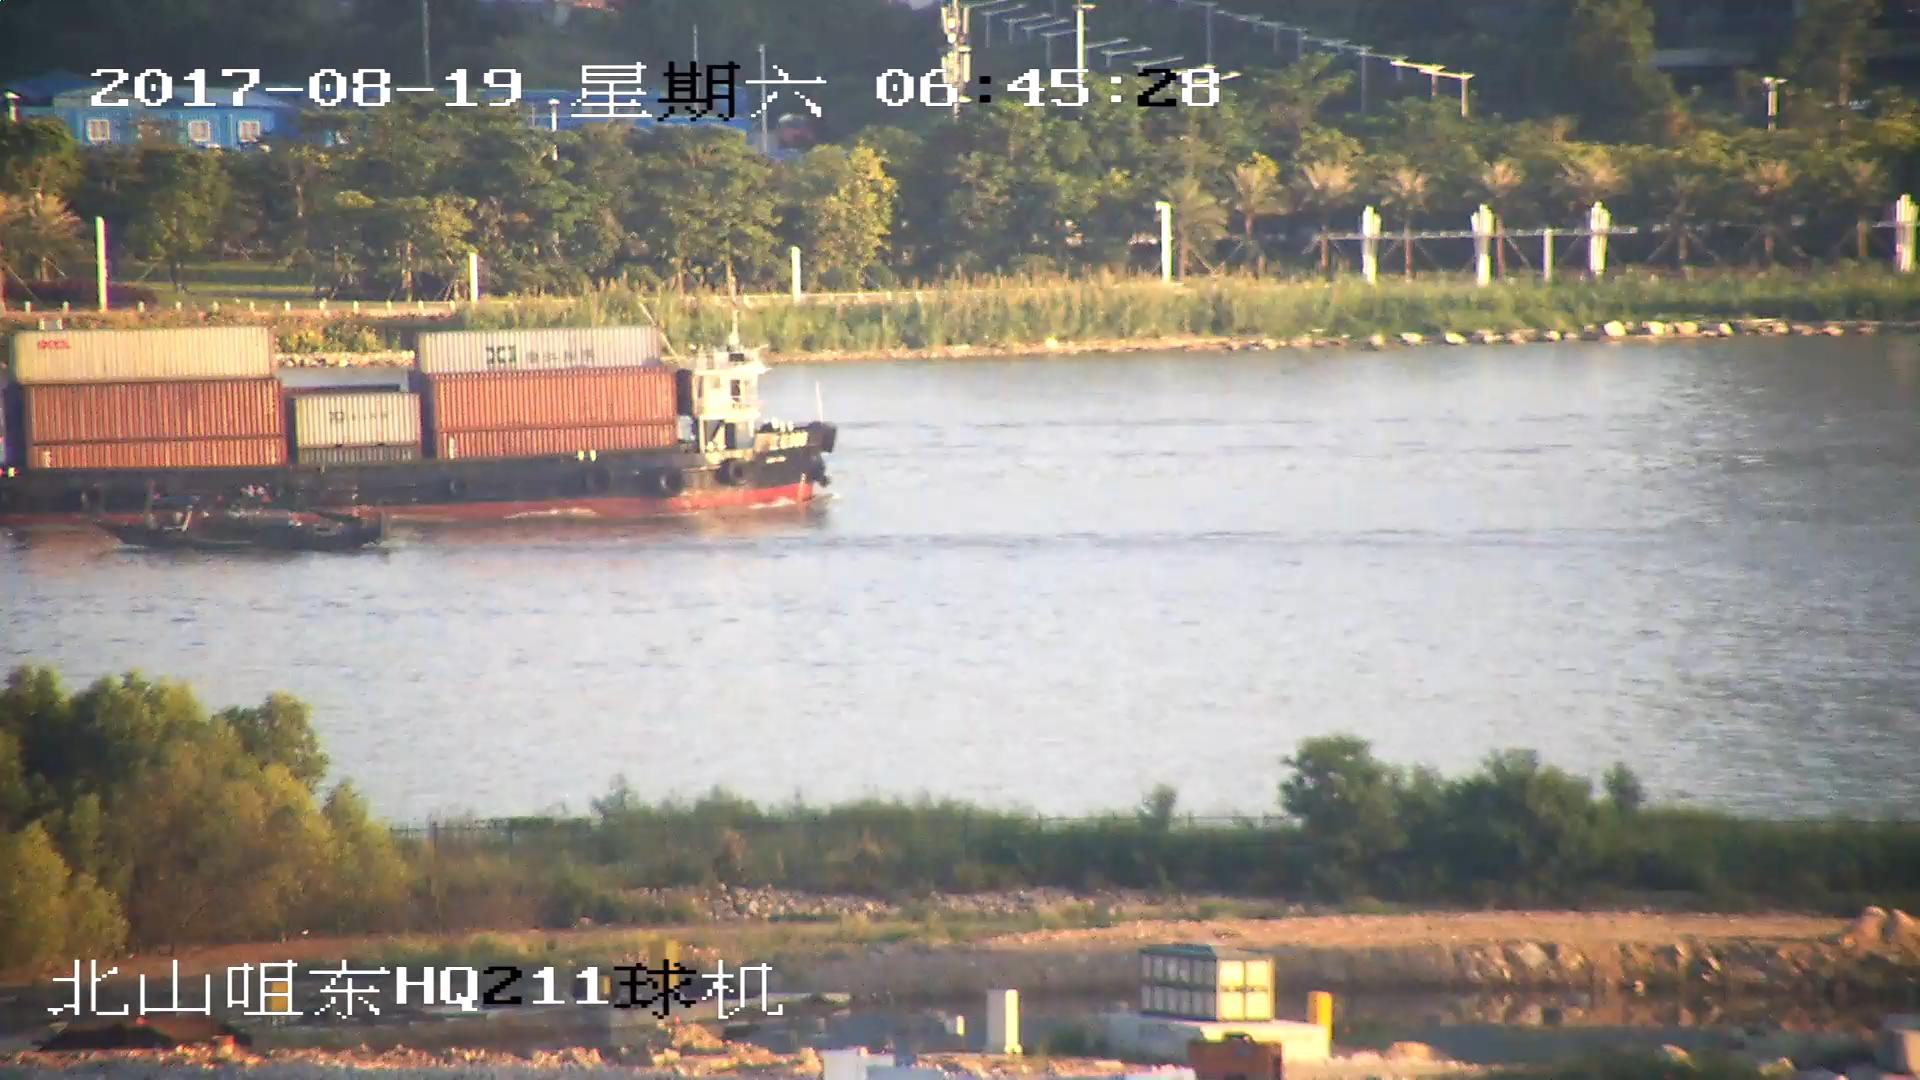container ship: (1, 312, 833, 520)
fishing boat: (99, 507, 390, 560)
